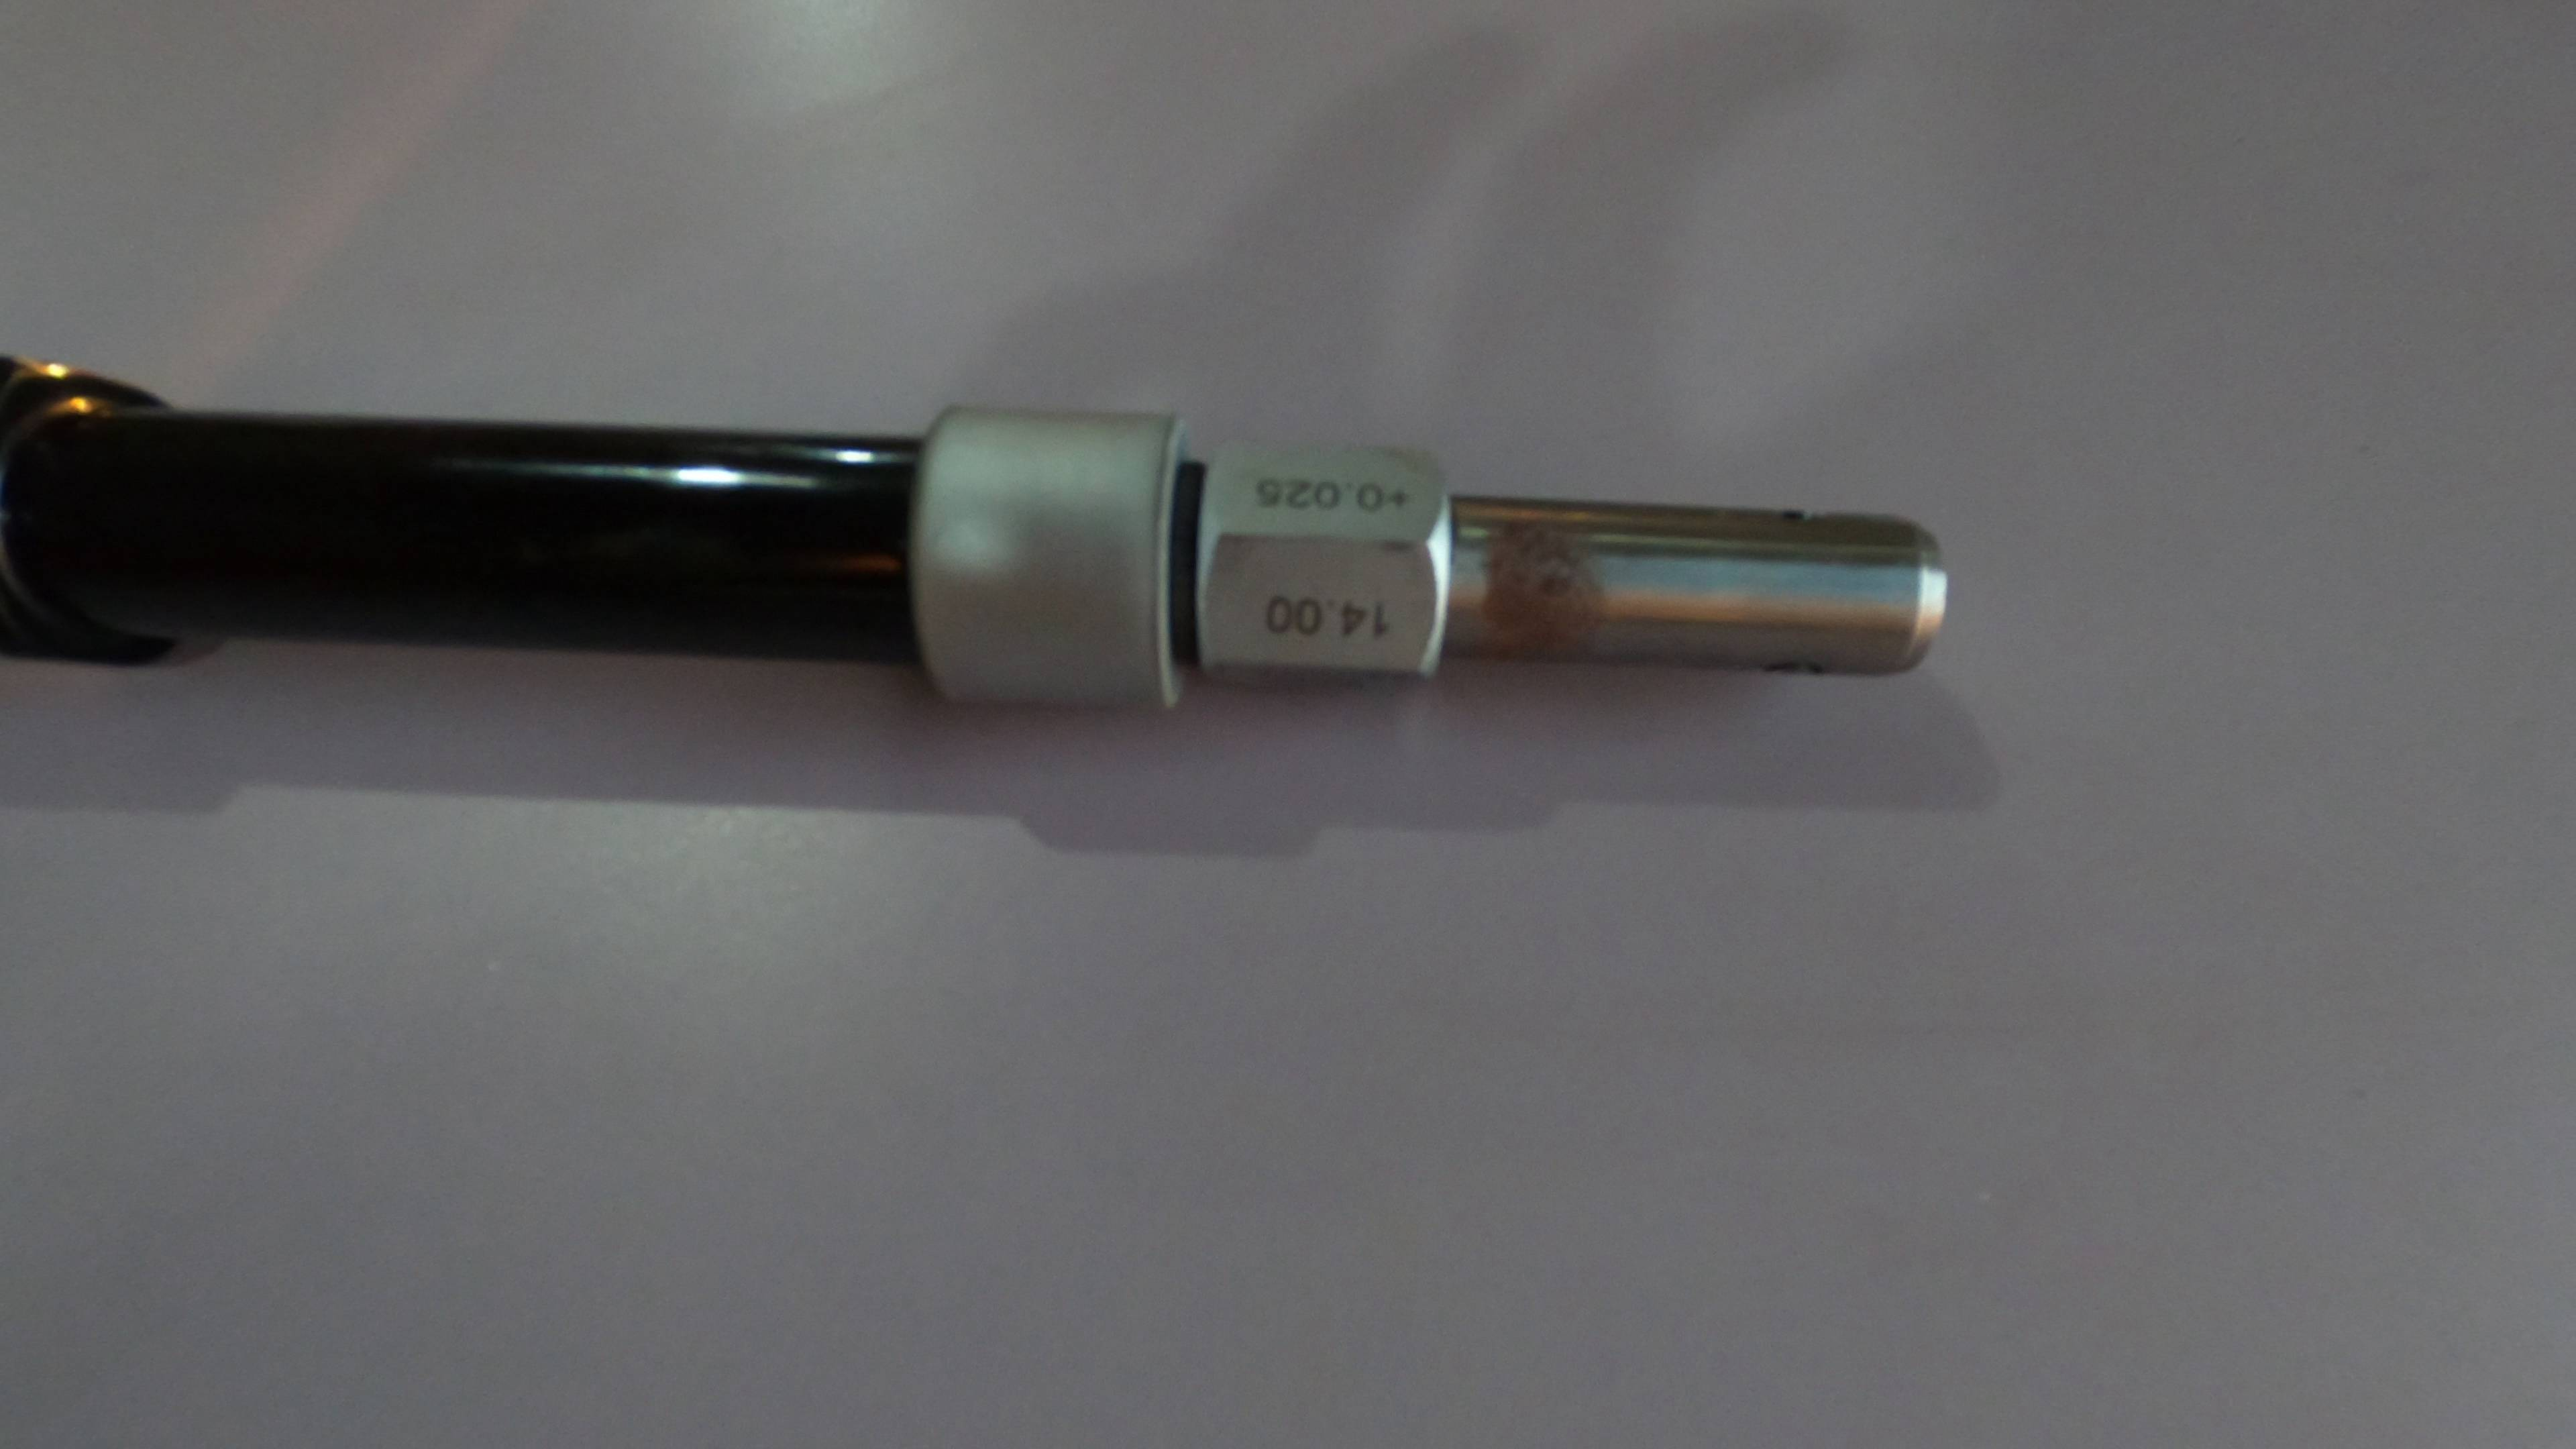air_gauge: (2, 347, 1955, 734)
